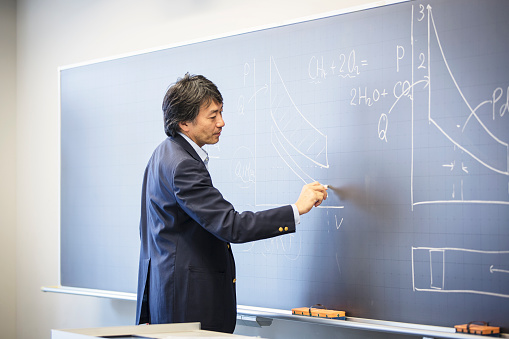em pe: (136, 62, 327, 335)
